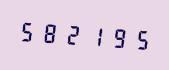eight: (39, 16, 60, 48)
five: (17, 15, 38, 46), (128, 23, 149, 54)
nine: (106, 21, 127, 52)
one: (84, 20, 105, 51)
two: (62, 18, 83, 49)
